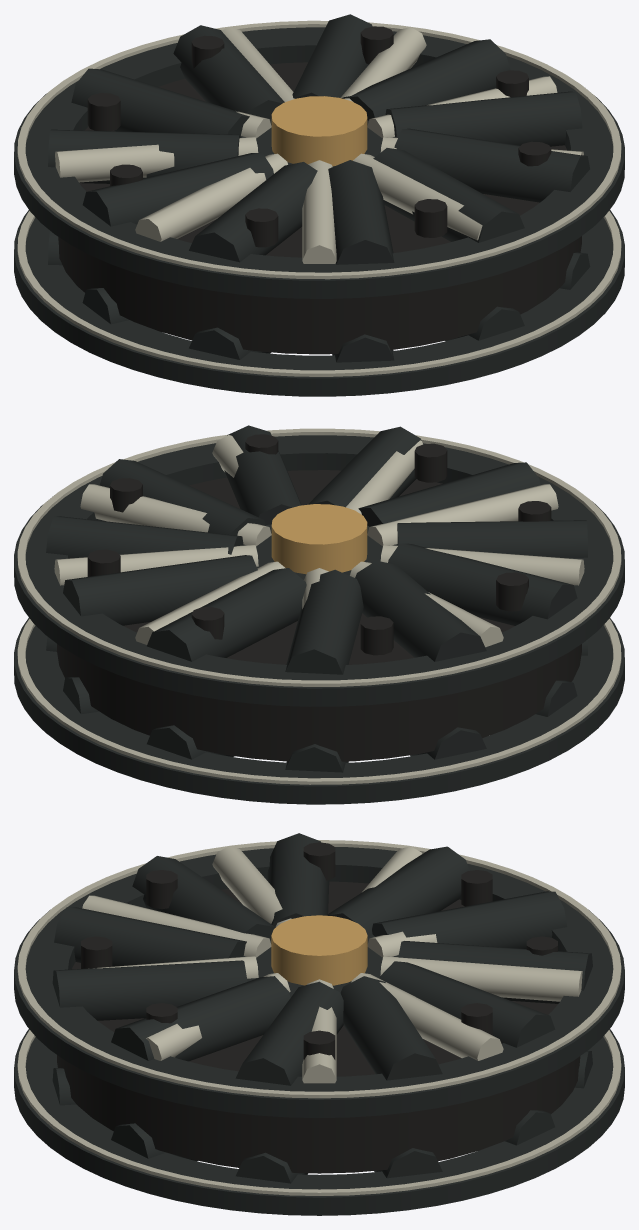
The model's file is Traveller.glb.
3 renders of one model, top to bottom at view 1: azimuth 30°, elevation 25°; view 2: azimuth 150°, elevation 25°; view 3: azimuth 270°, elevation 25°, orthographic.
Visible parts, largest first — view 1: Pressed web (×16), Stamped outer rim (×2), Wound correction stock, Raised spoke (×8), Pressed lip (×2), Take-up pin (×8), Spindle, Spool hub; view 2: Pressed web (×16), Stamped outer rim (×2), Wound correction stock, Raised spoke (×8), Pressed lip (×2), Take-up pin (×8), Spindle, Spool hub; view 3: Pressed web (×16), Stamped outer rim (×2), Wound correction stock, Raised spoke (×9), Pressed lip (×2), Take-up pin (×7), Spindle, Spool hub.
Part boxes in pixels (box(x1,y1,x2,y2)): Pressed web (×16): box(48, 14, 590, 362); Stamped outer rim (×2): box(14, 27, 624, 396); Wound correction stock: box(58, 62, 581, 354); Raised spoke (×8): box(55, 27, 557, 263); Pressed lip (×2): box(17, 20, 621, 376); Take-up pin (×8): box(87, 26, 551, 247); Spindle: box(271, 96, 367, 166); Spool hub: box(240, 119, 395, 166); Pressed web (×16): box(46, 425, 587, 772); Stamped outer rim (×2): box(14, 435, 624, 804); Wound correction stock: box(57, 470, 581, 761); Raised spoke (×8): box(54, 435, 584, 647); Pressed lip (×2): box(17, 428, 621, 784); Take-up pin (×8): box(87, 434, 551, 655); Spindle: box(271, 504, 367, 574); Spool hub: box(243, 524, 397, 579); Pressed web (×16): box(52, 833, 592, 1183); Stamped outer rim (×2): box(14, 847, 624, 1215); Wound correction stock: box(57, 881, 580, 1173); Raised spoke (×9): box(82, 846, 582, 1083); Pressed lip (×2): box(17, 840, 621, 1195); Take-up pin (×7): box(81, 842, 492, 1059); Spindle: box(271, 915, 367, 985); Spool hub: box(243, 934, 398, 997).
Size of the model in its own units: 0.85 by 0.253 by 0.85.
